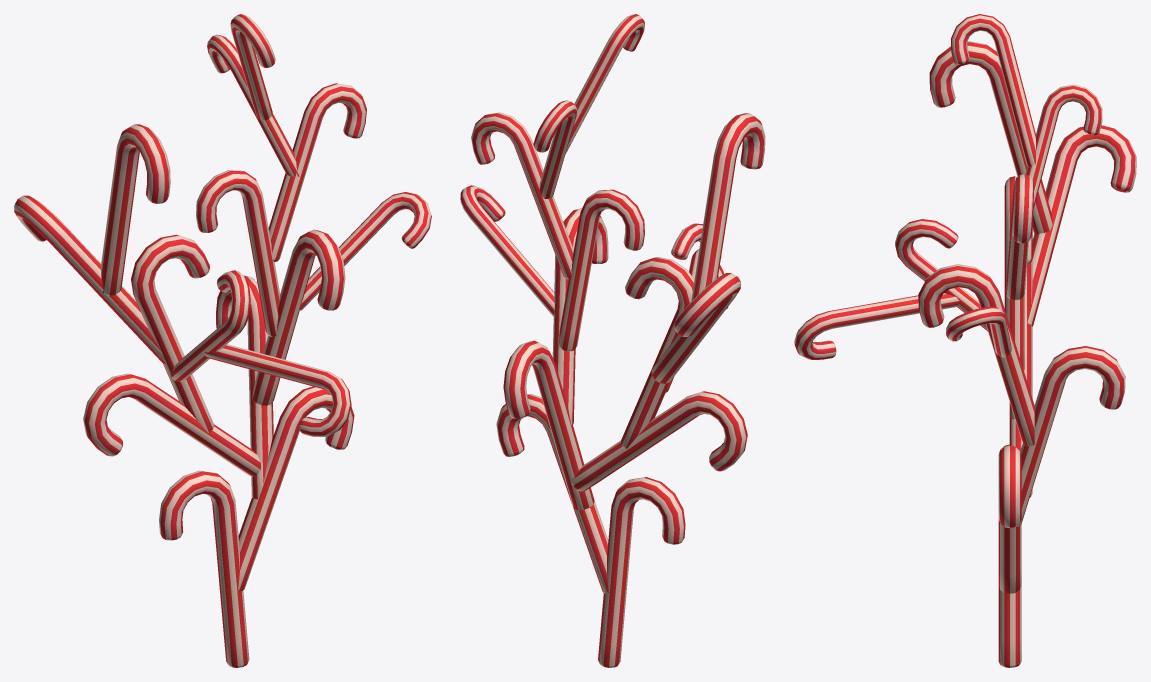
File: cw_tree_7.fbx
3 renders of one model, left to right at view 1: azimuth 30°, elevation 25°; view 2: azimuth 150°, elevation 25°; view 3: azimuth 270°, elevation 25°, orthographic. The views are drawn at different scales.
Visible parts, largest first — view 1: cw_t_7; view 2: cw_t_7; view 3: cw_t_7.
Boxes of the visible parts, x1,y1,x2,y2 form: cw_t_7: [14, 14, 431, 667]; cw_t_7: [460, 14, 765, 667]; cw_t_7: [794, 14, 1136, 667].
Bounding box in the file's own units: 109 × 202 × 96.65.
